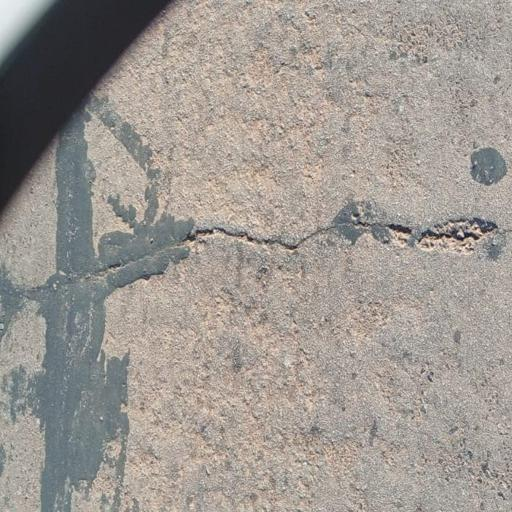GRIETA: (64, 218, 500, 283)
